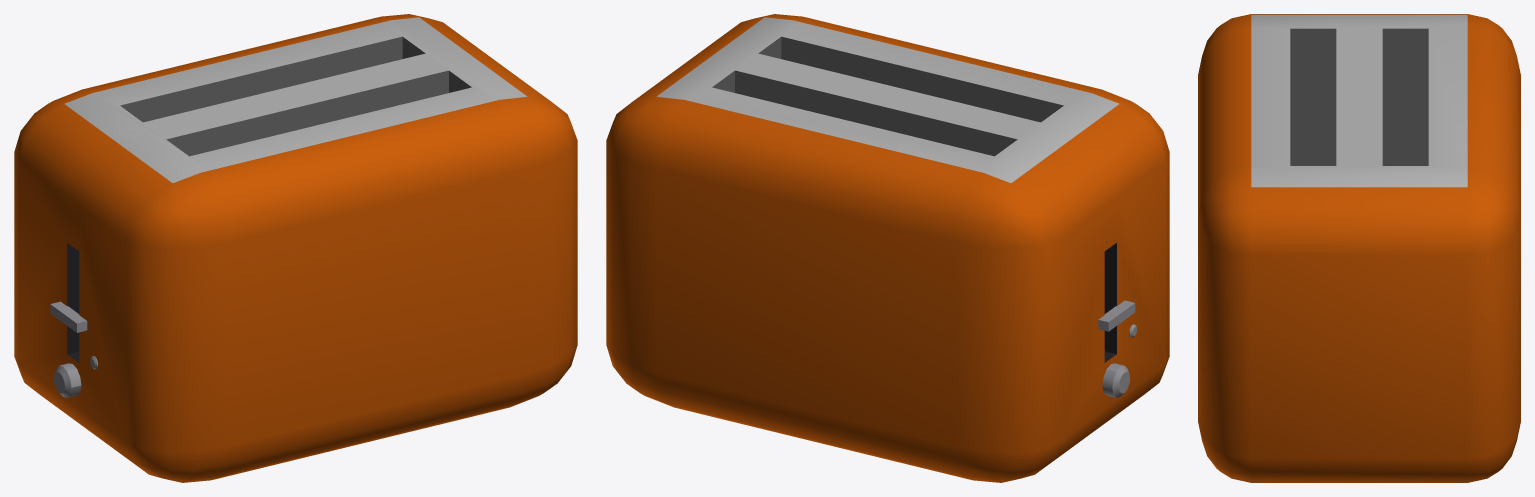
File: ekmekkizartmamakinesi.fbx
3 views of the same model, side by side, from view 1: azimuth 30°, elevation 25°; view 2: azimuth 150°, elevation 25°; view 3: azimuth 270°, elevation 25° (orthographic).
Visible parts, largest first — view 1: Cube.089, Cylinder.018, Cube.088; view 2: Cube.089, Cylinder.018, Cube.088; view 3: Cube.089.
Part boxes in pixels (bbox=[...]): Cube.089: bbox=[14, 14, 577, 482]; Cylinder.018: bbox=[53, 363, 81, 397]; Cube.088: bbox=[50, 301, 87, 332]; Cube.089: bbox=[606, 14, 1169, 482]; Cylinder.018: bbox=[1102, 363, 1129, 397]; Cube.088: bbox=[1098, 300, 1135, 331]; Cube.089: bbox=[1198, 14, 1520, 482].
Size of the model in its own units: 31.82 by 20.12 by 19.44.
1 material, 1 textured.
